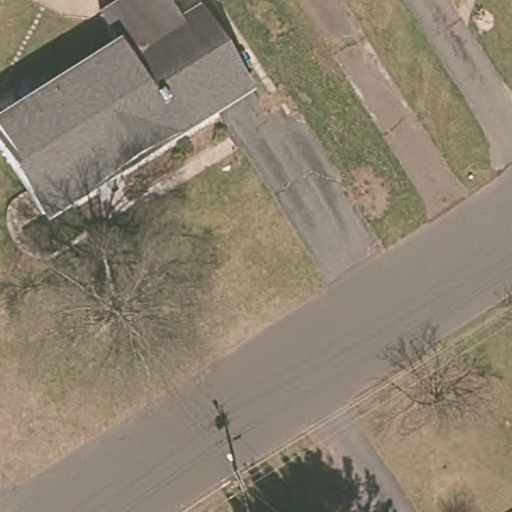DT: (229, 467, 251, 500)
